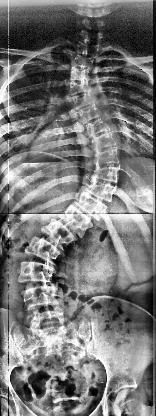Vertebrae: (40, 217, 78, 253), (59, 204, 95, 240), (20, 285, 62, 313), (25, 235, 62, 266), (15, 260, 59, 284), (74, 192, 108, 223), (86, 178, 118, 202), (75, 102, 104, 126), (85, 116, 111, 140), (69, 90, 97, 112), (92, 146, 122, 166), (74, 40, 102, 60), (66, 77, 94, 97), (91, 164, 121, 182), (90, 132, 118, 150), (70, 54, 96, 70), (68, 66, 94, 82)
